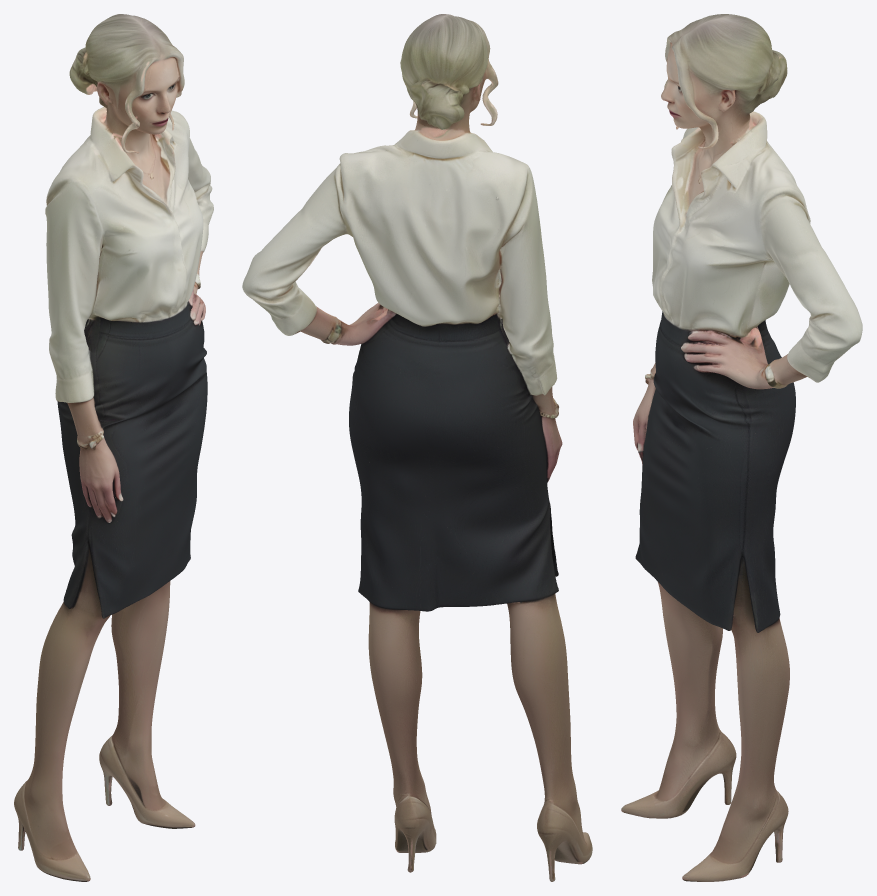
3 renders of one model, left to right at view 1: azimuth 30°, elevation 25°; view 2: azimuth 150°, elevation 25°; view 3: azimuth 270°, elevation 25°, orthographic. The views are drawn at different scales.
Parts seen in each view (by area): view 1: Object_4, Object_5; view 2: Object_4, Object_5; view 3: Object_4, Object_5.
Part boxes in pixels (<box>): Object_4: <box>14,14,207,881</box>; Object_5: <box>14,19,213,850</box>; Object_4: <box>302,14,592,864</box>; Object_5: <box>242,15,579,881</box>; Object_4: <box>621,14,810,881</box>; Object_5: <box>684,14,862,881</box>.
Bounding box in the file's own units: 0.6184 × 1.9 × 0.4928.
Materials: 1 (1 with a texture image).
